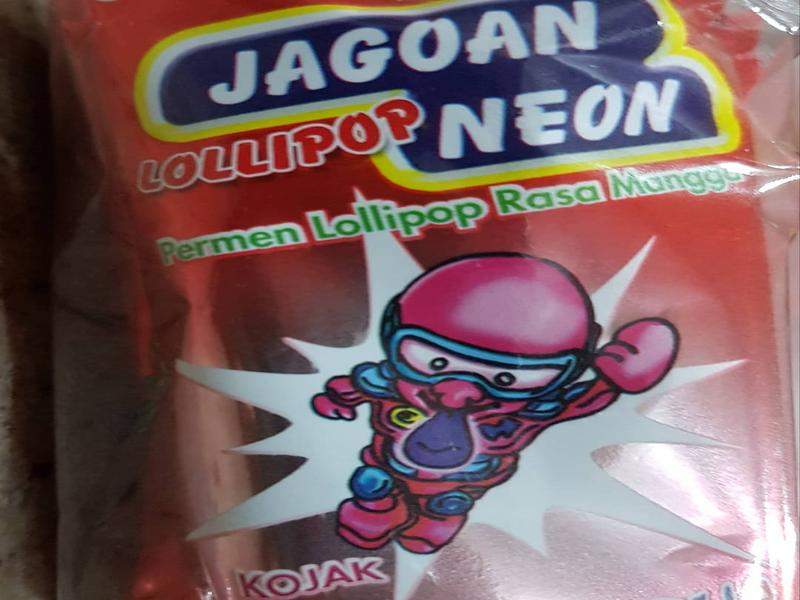jagoan_neon: (47, 1, 798, 600)
